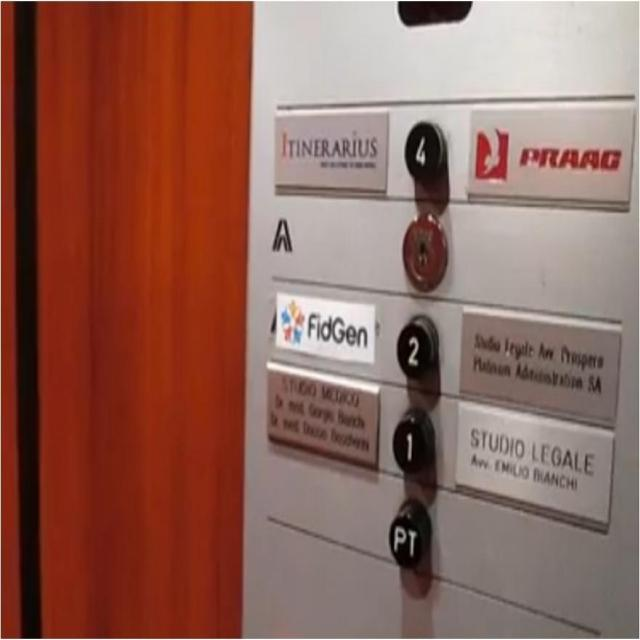1: (391, 406, 436, 481)
2: (394, 310, 441, 388)
4: (403, 114, 448, 189)
P1: (388, 496, 433, 571)
keyhole: (400, 206, 451, 294)
